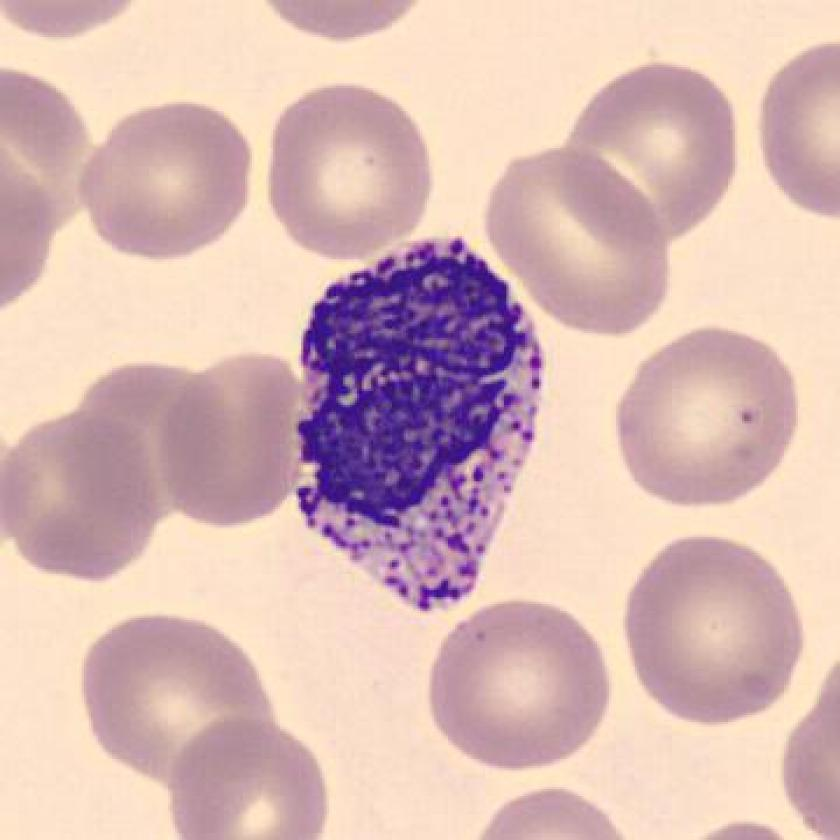basophil: (281, 223, 554, 617)
